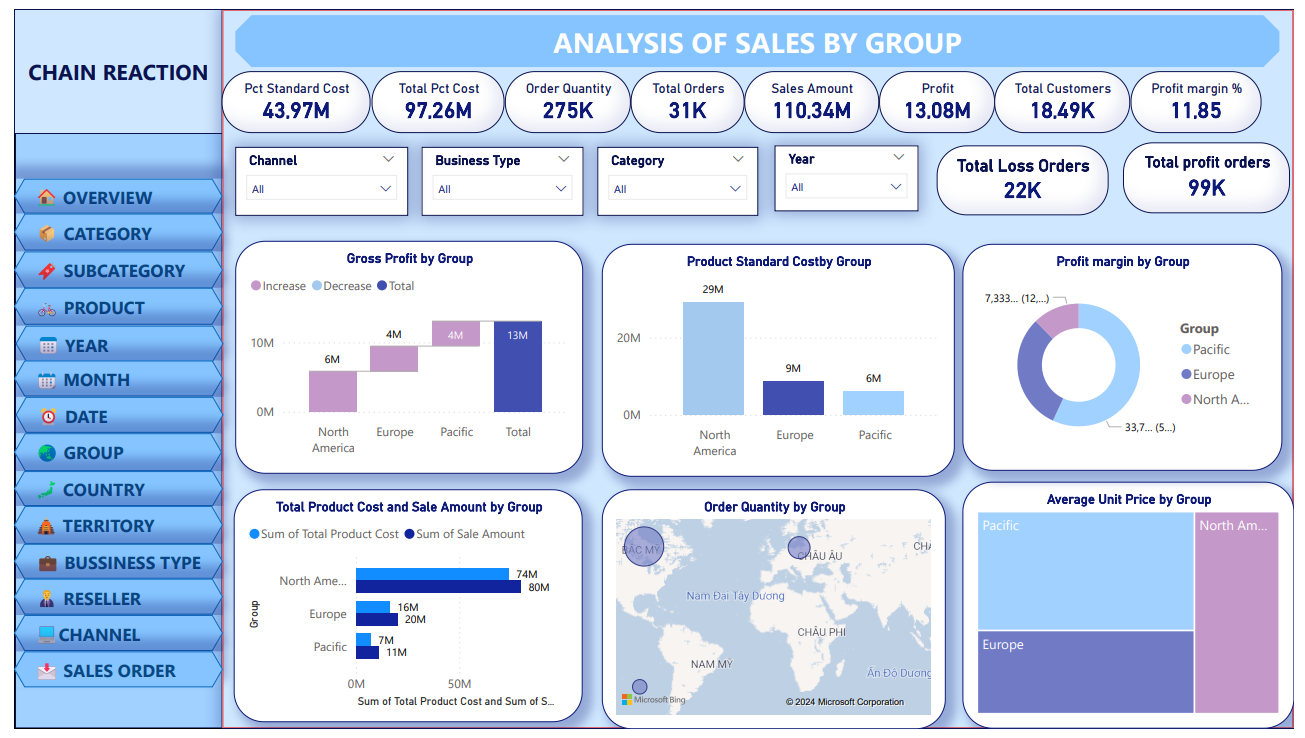

The page's visual inventory and layout, read from the dashboard file:
{"tool":"powerbi","page":{"name":"Group","canvas":[1280,720],"ordinal":9},"visuals":[{"type":"shape","box":[0,0,209.9,720.4],"z":0},{"type":"shape","title":"dbdbdjb","box":[235.7,0,1044.3,52.1],"z":1000},{"type":"shape","box":[0.4,0,209.1,124.7],"z":2000},{"type":"shape","box":[207.5,0,1072.5,720],"z":3000},{"type":"shape","box":[0,170.1,208.6,35],"z":4000},{"type":"shape","box":[0,205,209,37],"z":5000},{"type":"shape","box":[0,242,209,37],"z":6000},{"type":"shape","box":[0,279,209,37],"z":7000},{"type":"shape","box":[1,316,208,36],"z":8000},{"type":"shape","box":[0,352,209,36],"z":9000},{"type":"shape","box":[1,388,208,36],"z":10000},{"type":"shape","box":[0,424,208,38],"z":11000},{"type":"shape","box":[0,462,209,35],"z":12000},{"type":"shape","box":[0,497,209,38],"z":13000},{"type":"shape","box":[0,535,209,35],"z":14000},{"type":"shape","box":[0,570,209,36],"z":15000},{"type":"shape","box":[0,606,209,36],"z":16000},{"type":"shape","box":[0,642,209,36],"z":17000},{"type":"card","title":"Order Quantity","fields":{"Values":["Sum(Sales.Order Quantity)"]},"box":[490.4,62.4,126,62.4],"z":18000},{"type":"card","title":"Pct Standard Cost","fields":{"Values":["Sum(Sales.Product Standard Cost)"]},"box":[207.9,62.4,149.2,62.4],"z":19000},{"type":"card","title":"Sales Amount","fields":{"Values":["Sum(Sales.Sale Amount)"]},"box":[730,62.4,134.5,62.4],"z":20000},{"type":"card","title":"Profit","fields":{"Values":["Sales.Profit"]},"box":[864.5,62.4,116.2,62.4],"z":21000},{"type":"card","title":"Total Pct Cost","fields":{"Values":["Sum(Sales.Total Product Cost)"]},"box":[357.1,62.4,133.3,62.4],"z":22000},{"type":"card","title":"Total Orders","fields":{"Values":["Sales.Total sale orders"]},"box":[616.3,62.4,113.7,62.4],"z":23000},{"type":"card","title":"Total Customers","fields":{"Values":["Count(Customer.Customer ID)"]},"box":[980.7,62.4,135.7,62.4],"z":24000},{"type":"card","title":"Profit margin %","fields":{"Values":["Sales.Profit margin"]},"box":[1116.4,62.4,130.8,62.4],"z":25000},{"type":"slicer","title":"Date","fields":{"Values":["Date.Year"]},"box":[760.2,135.8,144.1,65.9],"z":27000},{"type":"slicer","title":"Category","fields":{"Values":["Category.Category"]},"box":[583.2,137.2,160.5,68.6],"z":28000},{"type":"slicer","title":"Channel","fields":{"Values":["Business Type.Business Type"]},"box":[407.5,137.2,161.9,68.6],"z":29000},{"type":"shape","title":"dbdbdjb","box":[221.1,5.6,1044.4,52.2],"z":30000},{"type":"card","title":"Total profit orders","fields":{"Values":["Sales.Total_Profit_Orders"]},"box":[1108.8,133.1,167.4,71.4],"z":31000},{"type":"card","title":"Total Loss Orders","fields":{"Values":["Sales.Total_Loss_Orders"]},"box":[922.1,135.8,171.5,70],"z":32000},{"type":"waterfallChart","title":"Gross Profit by Group","fields":{"Y":["Sales.Profit"],"Category":["Group.Group"]},"box":[221,231.3,347.7,233],"z":33000},{"type":"clusteredColumnChart","title":"Product Standard Costby Group","fields":{"Y":["Sum(Sales.Product Standard Cost)"],"Category":["Group.Group"]},"box":[587.6,234.7,352.9,233],"z":34000},{"type":"treemap","title":" Average Unit Price by Group","fields":{"Group":["Group.Group"],"Values":["Avg(Sales.Unit Price)"]},"box":[948.2,472.7,331.8,246.9],"z":35000},{"type":"clusteredBarChart","title":"Total Product Cost and Sale Amount by Group","fields":{"Category":["Group.Group"],"Y":["Sum(Sales.Total Product Cost)","Sum(Sales.Sale Amount)"]},"box":[219.3,479.6,349.4,233],"z":36000},{"type":"map","title":"Order Quantity by Group","fields":{"Category":["Group.Group"],"Size":["Sum(Sales.Order Quantity)"]},"box":[587.6,479.6,344.3,239.8],"z":37000},{"type":"donutChart","fields":{"Category":["Group.Group"],"Y":["Sales.Profit margin"]},"box":[948.4,234.8,319.7,227.2],"z":38000},{"type":"slicer","fields":{"Values":["Channel.Channel"]},"box":[220.9,137.2,172.9,68.6],"z":39000}]}

Visuals, with their boxes in screenshot pixels (x1, y1, x2, y2), scaled from the page's 1280x720 canvas onto the 1305x738 screenshot:
shape: (left=0, top=0, right=214, bottom=737)
"dbdbdjb" shape: (left=240, top=0, right=1304, bottom=53)
shape: (left=0, top=0, right=214, bottom=128)
shape: (left=212, top=0, right=1304, bottom=737)
shape: (left=0, top=174, right=213, bottom=210)
shape: (left=0, top=210, right=213, bottom=248)
shape: (left=0, top=248, right=213, bottom=286)
shape: (left=0, top=286, right=213, bottom=324)
shape: (left=1, top=324, right=213, bottom=361)
shape: (left=0, top=361, right=213, bottom=398)
shape: (left=1, top=398, right=213, bottom=435)
shape: (left=0, top=435, right=212, bottom=474)
shape: (left=0, top=474, right=213, bottom=509)
shape: (left=0, top=509, right=213, bottom=548)
shape: (left=0, top=548, right=213, bottom=584)
shape: (left=0, top=584, right=213, bottom=621)
shape: (left=0, top=621, right=213, bottom=658)
shape: (left=0, top=658, right=213, bottom=695)
"Order Quantity" card: (left=500, top=64, right=628, bottom=128)
"Pct Standard Cost" card: (left=212, top=64, right=364, bottom=128)
"Sales Amount" card: (left=744, top=64, right=881, bottom=128)
"Profit" card: (left=881, top=64, right=1000, bottom=128)
"Total Pct Cost" card: (left=364, top=64, right=500, bottom=128)
"Total Orders" card: (left=628, top=64, right=744, bottom=128)
"Total Customers" card: (left=1000, top=64, right=1138, bottom=128)
"Profit margin %" card: (left=1138, top=64, right=1272, bottom=128)
"Date" slicer: (left=775, top=139, right=922, bottom=207)
"Category" slicer: (left=595, top=141, right=758, bottom=211)
"Channel" slicer: (left=415, top=141, right=581, bottom=211)
"dbdbdjb" shape: (left=225, top=6, right=1290, bottom=59)
"Total profit orders" card: (left=1130, top=136, right=1301, bottom=210)
"Total Loss Orders" card: (left=940, top=139, right=1115, bottom=211)
"Gross Profit by Group" waterfallChart: (left=225, top=237, right=580, bottom=476)
"Product Standard Costby Group" clusteredColumnChart: (left=599, top=241, right=959, bottom=479)
" Average Unit Price by Group" treemap: (left=967, top=485, right=1304, bottom=737)
"Total Product Cost and Sale Amount by Group" clusteredBarChart: (left=224, top=492, right=580, bottom=730)
"Order Quantity by Group" map: (left=599, top=492, right=950, bottom=737)
donutChart - Group.Group x Sales.Profit margin: (left=967, top=241, right=1293, bottom=474)
slicer - Channel.Channel: (left=225, top=141, right=401, bottom=211)
